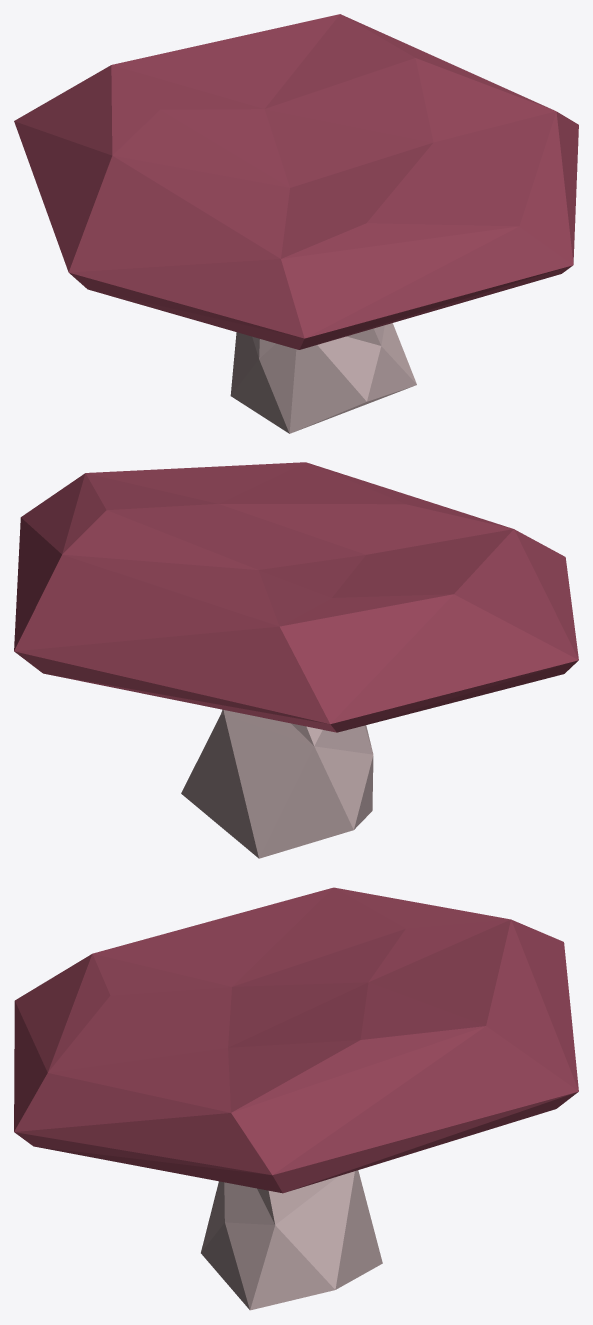
File: SENE_EDAMA-003.FBX
The picture shows the model from 3 angles, top to bottom: view 1: azimuth 30°, elevation 25°; view 2: azimuth 150°, elevation 25°; view 3: azimuth 270°, elevation 25°; orthographic projection. The views are drawn at different scales.
Visible parts, largest first — view 1: SENE_EDAMA-003; view 2: SENE_EDAMA-003; view 3: SENE_EDAMA-003.
Part boxes in pixels (box(x1,y1,x2,y2)): SENE_EDAMA-003: box(14, 14, 578, 433); SENE_EDAMA-003: box(14, 462, 578, 858); SENE_EDAMA-003: box(14, 887, 578, 1310).
Bounding box in the file's own units: 1103 × 587 × 971.
1 material, 1 textured.
